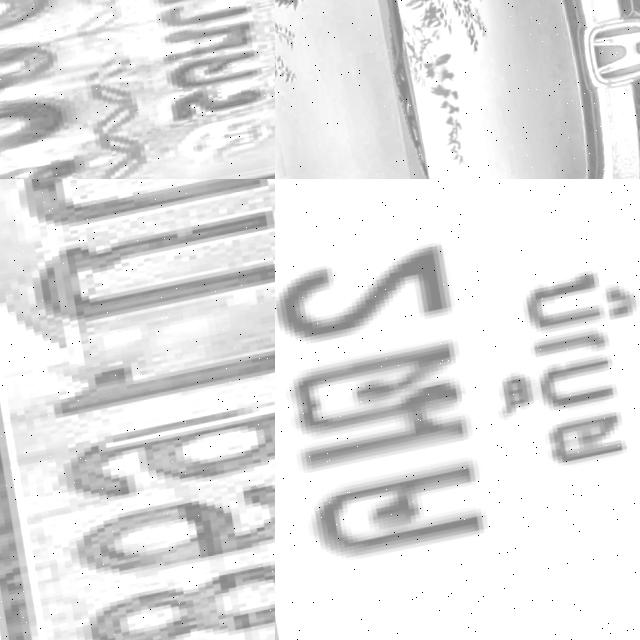license-plate: (275, 179, 640, 640), (0, 179, 275, 640), (0, 0, 275, 179)
